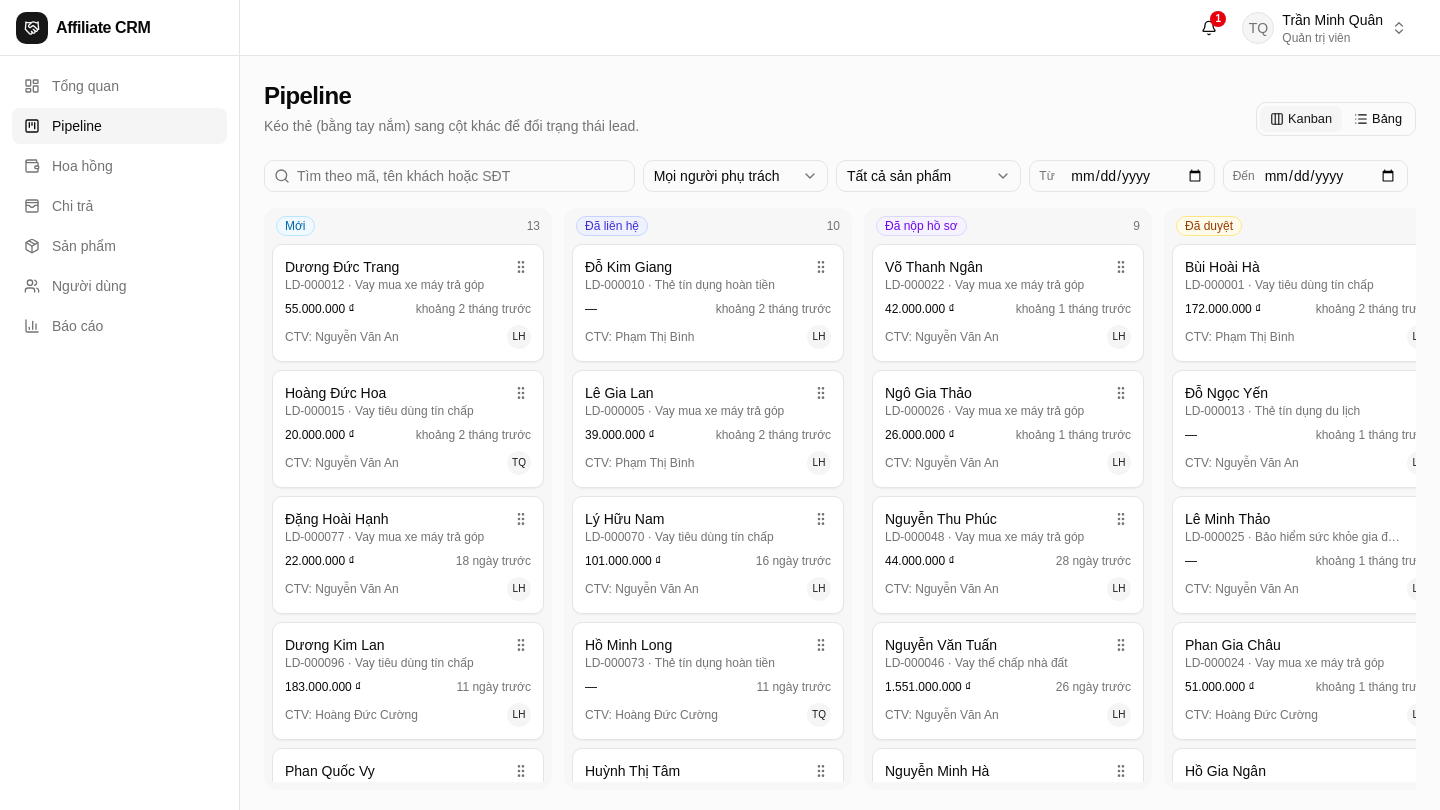
Test: PipelinePage (kanban) › switches between kanban and table and keeps it in the URL
Click the button "Bảng" at (1378, 119), box [1343, 105, 1413, 133]
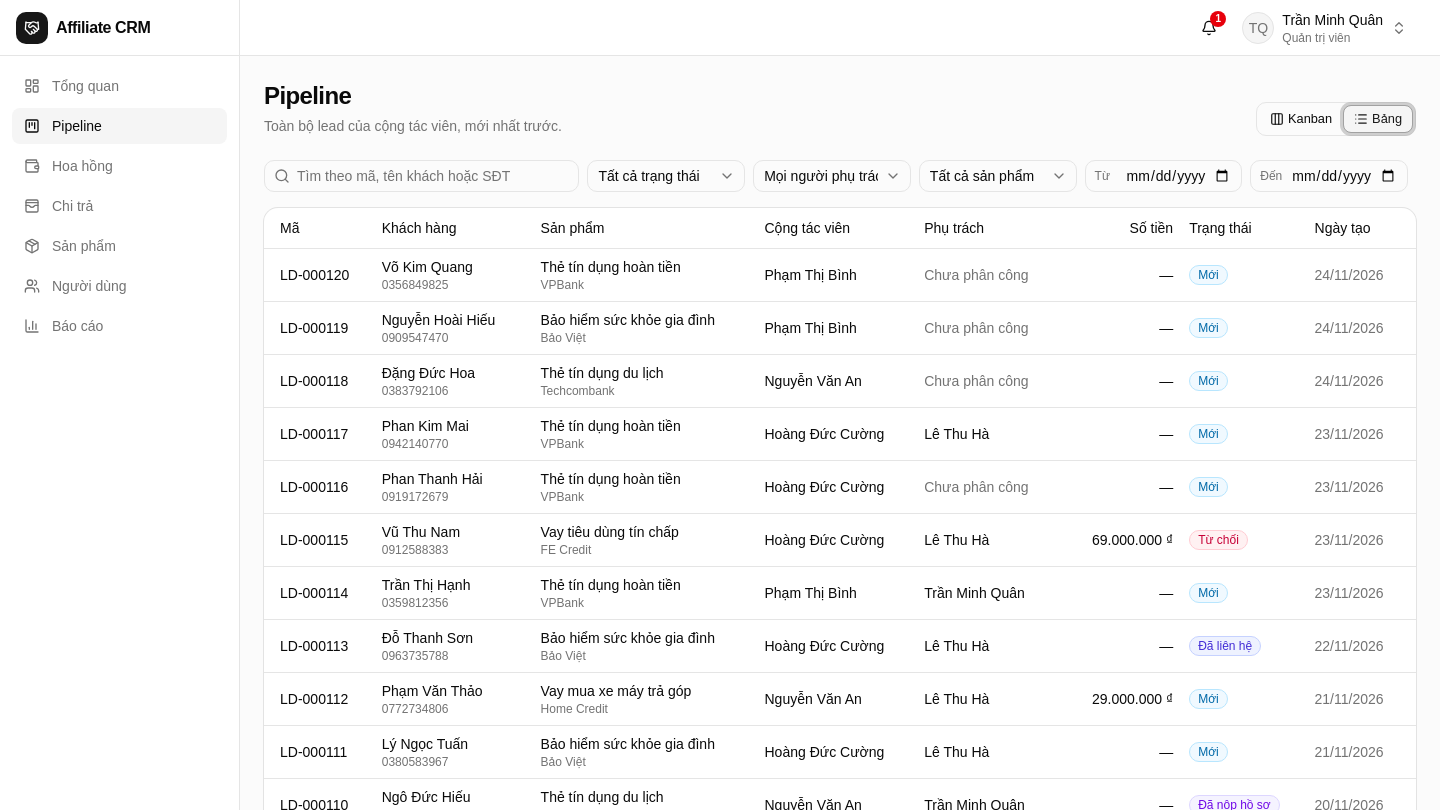
Click the button "Kanban" at (1301, 119), box [1259, 105, 1343, 133]
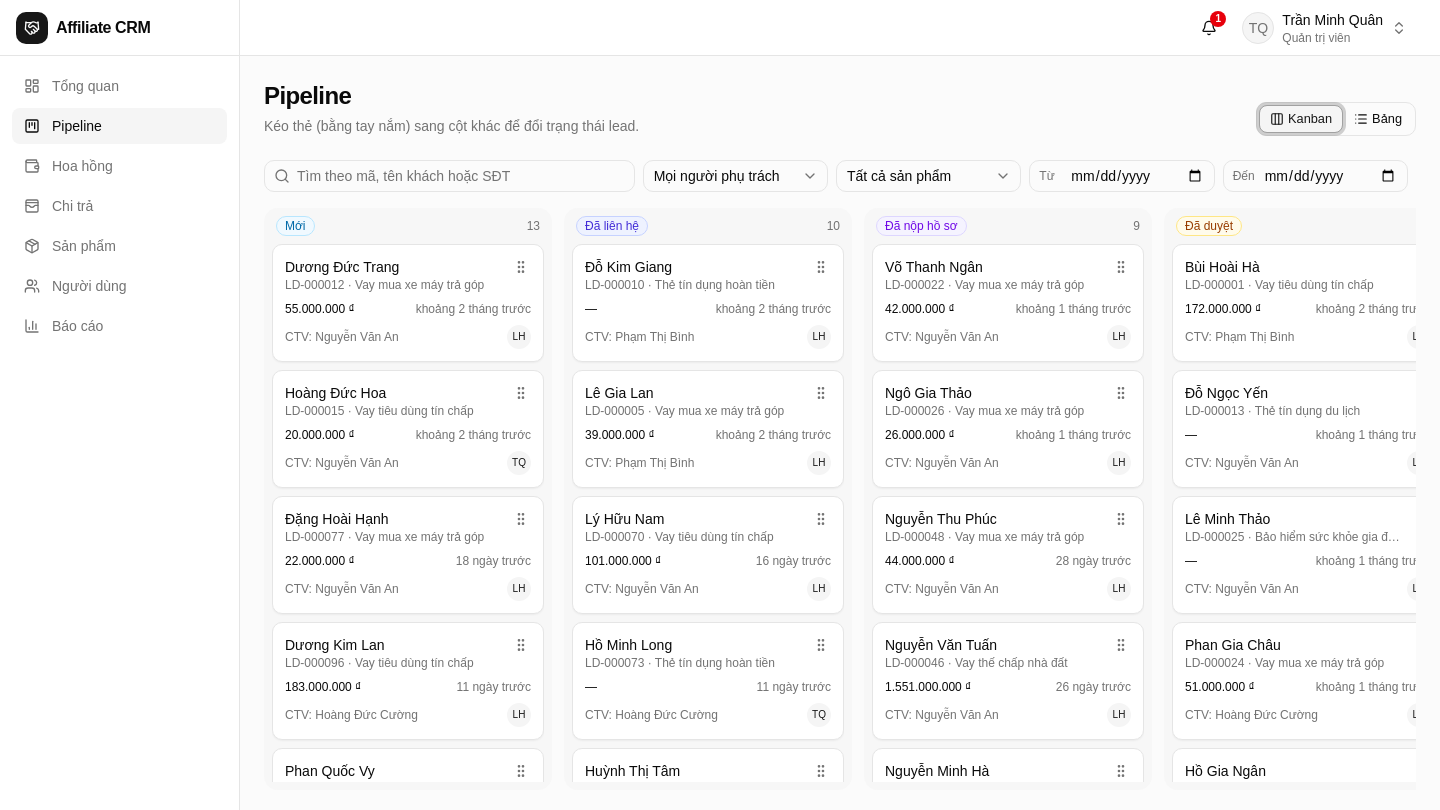
expect the element named "Cột Mới" is shown: met, box [264, 208, 552, 790]
